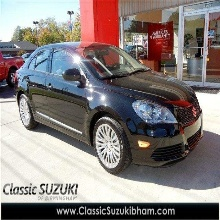no damage: (14, 42, 204, 176)
